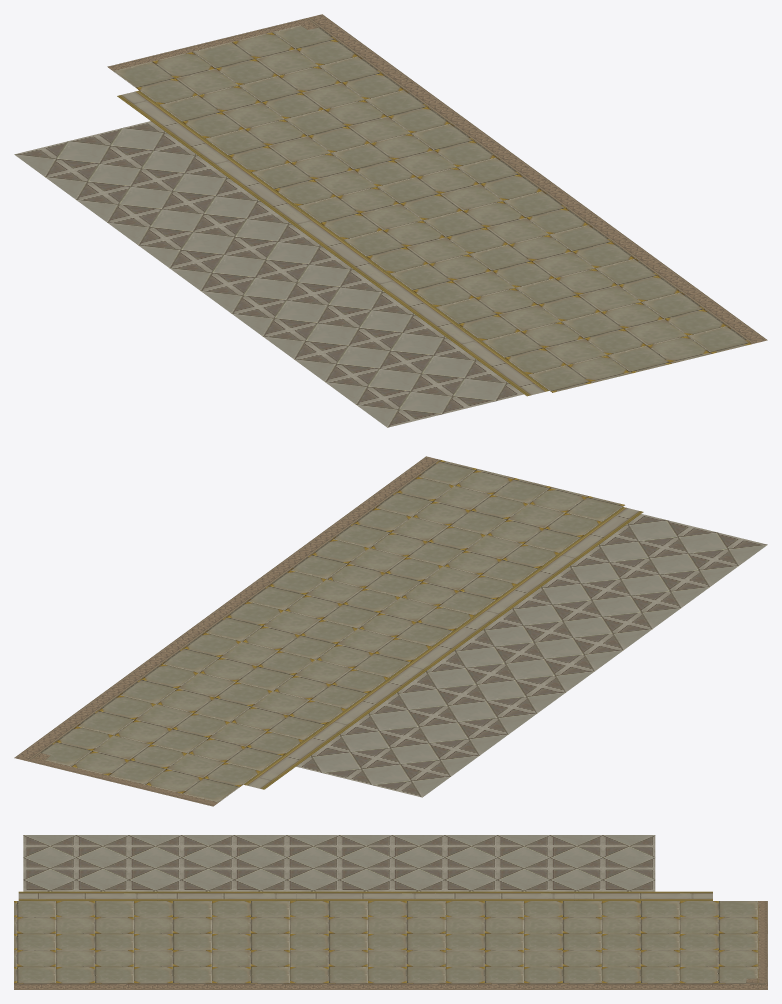
The model's file is WC_dimian01.FBX.
3 views of the same model, one above another, from view 1: azimuth 30°, elevation 25°; view 2: azimuth 150°, elevation 25°; view 3: azimuth 270°, elevation 25° (orthographic). The views are drawn at different scales.
Visible parts, largest first — view 1: WC_dimian01_001; view 2: WC_dimian01_001; view 3: WC_dimian01_001.
Part boxes in pixels (bbox=[...]): WC_dimian01_001: bbox=[14, 14, 767, 427]; WC_dimian01_001: bbox=[14, 456, 767, 806]; WC_dimian01_001: bbox=[14, 835, 767, 989].
Size of the model in its own units: 2516 by 0.00118 by 5177.
